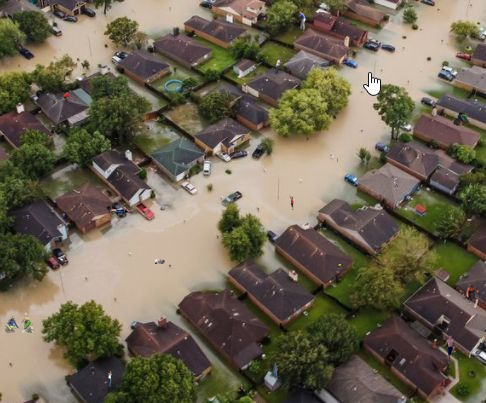Human: (442, 334, 459, 364), (5, 316, 34, 333), (466, 284, 480, 305), (453, 112, 470, 128), (109, 205, 134, 214), (296, 11, 306, 30), (274, 57, 284, 74), (104, 371, 112, 387), (237, 384, 246, 395), (63, 91, 70, 105), (289, 195, 294, 210), (273, 363, 278, 378), (479, 337, 484, 348), (155, 259, 165, 264), (208, 396, 216, 401), (394, 183, 398, 191), (291, 349, 296, 355), (147, 125, 153, 130), (338, 264, 343, 269), (53, 99, 56, 106), (226, 230, 230, 234), (355, 198, 358, 203), (386, 347, 389, 351), (107, 68, 110, 71), (122, 85, 124, 88), (337, 158, 338, 163)
